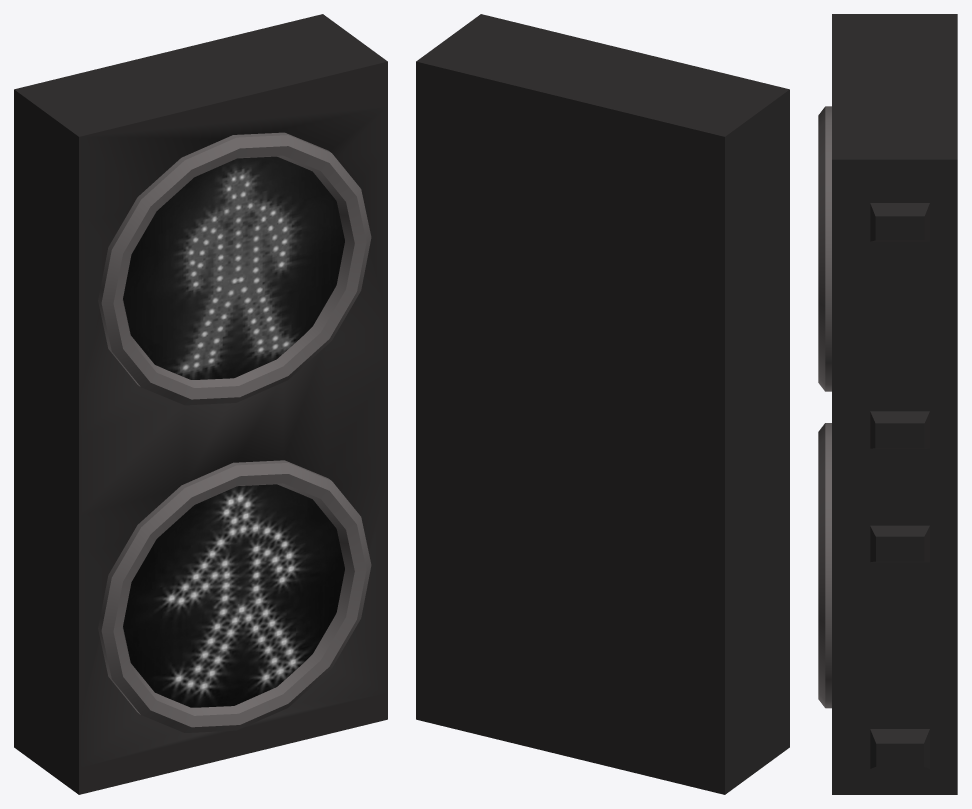
The model's file is PedestrianLight1.fbx.
3 views of the same model, side by side, from view 1: azimuth 30°, elevation 25°; view 2: azimuth 150°, elevation 25°; view 3: azimuth 270°, elevation 25° (orthographic). The views are drawn at different scales.
Parts seen in each view (by area): view 1: PedestrianLight_body, RedLight_Not_Ready, Greenlightnot_ready, Rings1, Rings; view 2: PedestrianLight_body; view 3: PedestrianLight_body, Rings1, Rings.
Boxes of the visible parts, box(x1,y1,x2,y2) form: PedestrianLight_body: box(14, 14, 387, 794); RedLight_Not_Ready: box(123, 156, 344, 379); Greenlightnot_ready: box(123, 484, 344, 707); Rings1: box(98, 460, 371, 732); Rings: box(98, 132, 371, 405); PedestrianLight_body: box(416, 14, 789, 794); PedestrianLight_body: box(832, 14, 957, 794); Rings1: box(818, 423, 831, 708); Rings: box(818, 106, 831, 391).
Size of the model in its own units: 1.75 by 3.42 by 0.6784.
Materials: 6 (6 with a texture image).
